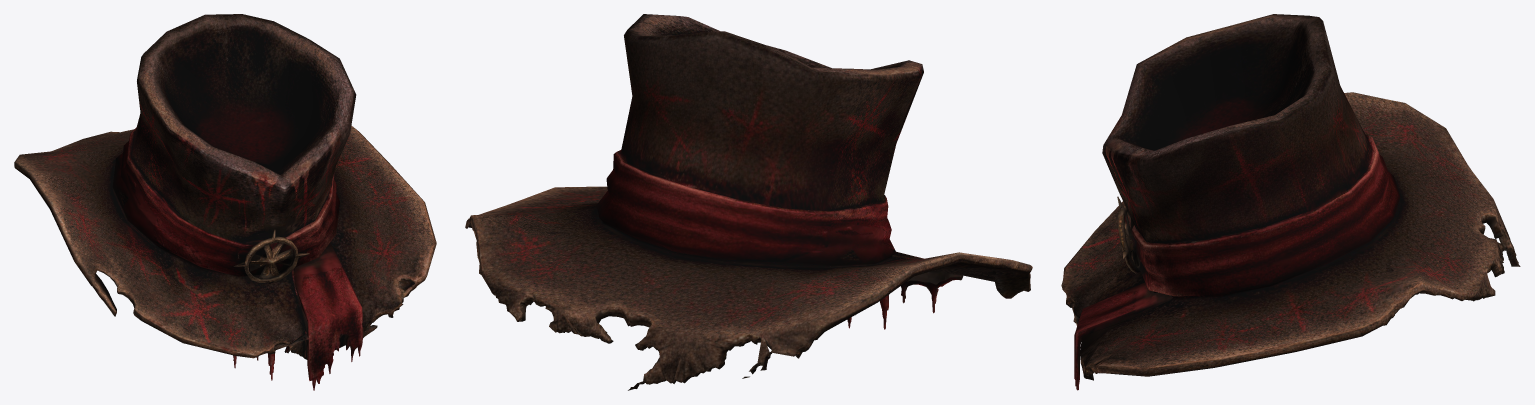
File: SombreroDelDesquiciado.glb
3 renders of one model, left to right at view 1: azimuth 30°, elevation 25°; view 2: azimuth 150°, elevation 25°; view 3: azimuth 270°, elevation 25°, orthographic. The views are drawn at different scales.
Parts seen in each view (by area): view 1: tripo_node_72d8048b-2a81-4c0a-9e0e-e1507ef4c171; view 2: tripo_node_72d8048b-2a81-4c0a-9e0e-e1507ef4c171; view 3: tripo_node_72d8048b-2a81-4c0a-9e0e-e1507ef4c171.
Part boxes in pixels (x1,y1,x2,y2): tripo_node_72d8048b-2a81-4c0a-9e0e-e1507ef4c171: [14, 14, 436, 390]; tripo_node_72d8048b-2a81-4c0a-9e0e-e1507ef4c171: [465, 14, 1032, 390]; tripo_node_72d8048b-2a81-4c0a-9e0e-e1507ef4c171: [1061, 14, 1520, 390].
Bounding box in the file's own units: 0.998 × 0.8223 × 0.9629.
1 material, 1 textured.
